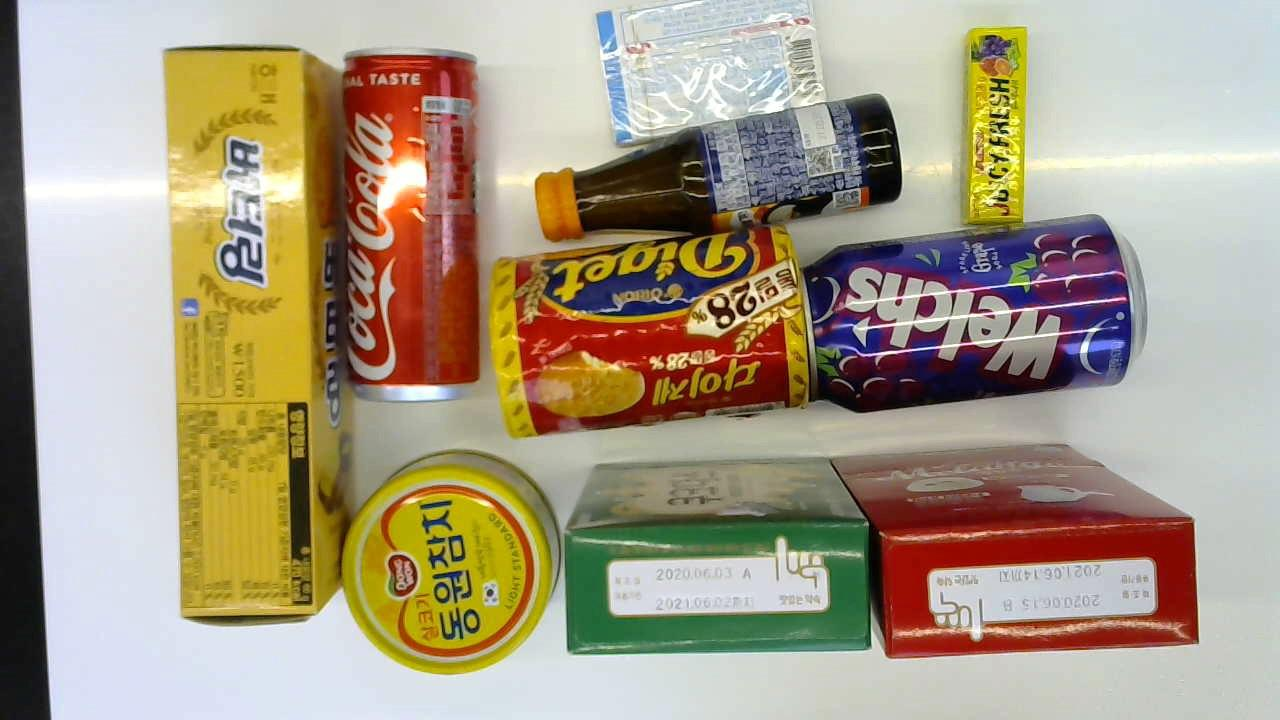ID_gum: (592, 0, 828, 148)
buttering: (159, 43, 350, 625)
coke: (332, 43, 484, 400)
couque_coffee: (566, 452, 869, 654)
couque_white: (833, 437, 1198, 649)
diget_ori: (484, 220, 809, 438)
juicyfresh: (956, 23, 1025, 220)
tuna: (336, 450, 559, 674)
vita500: (535, 88, 904, 248)
welchs: (785, 211, 1149, 405)
